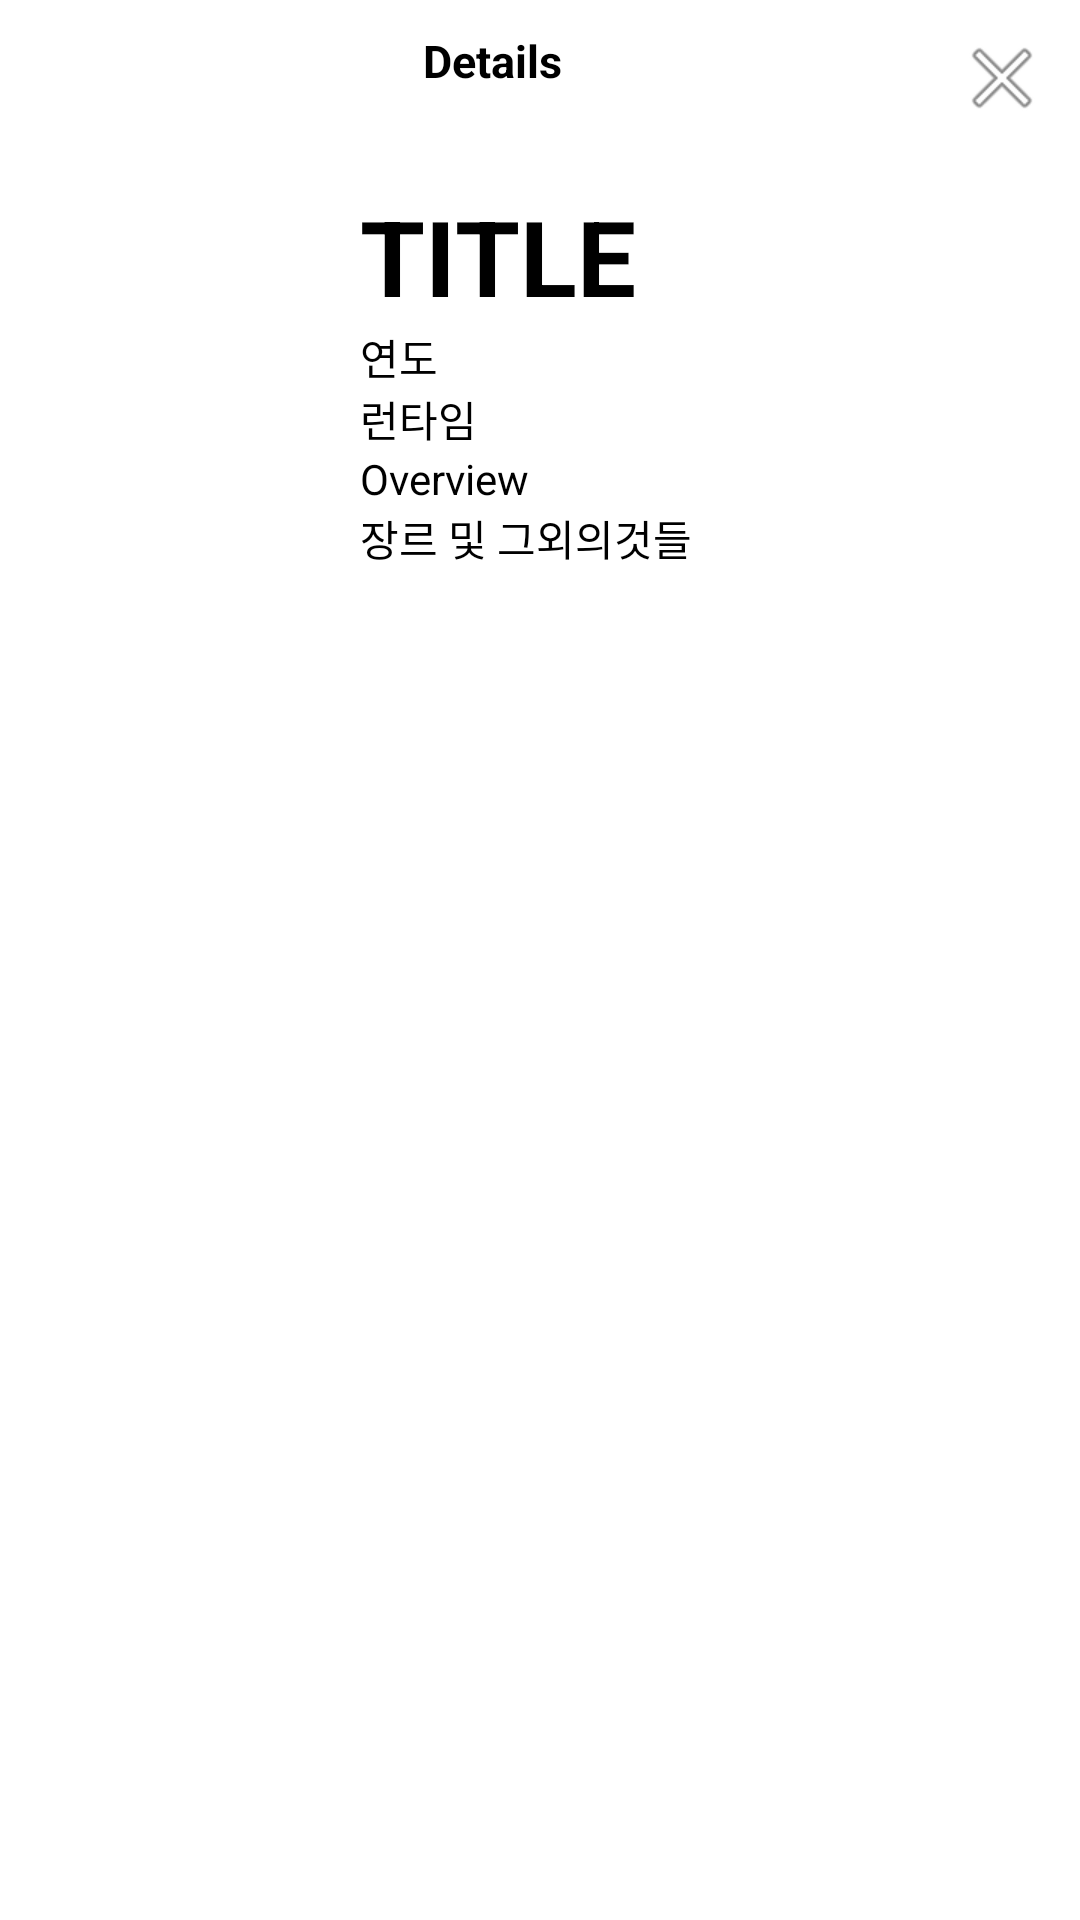

Where to tap for icons on this 1080w x 1920h app screen, as point (x, y):
close clear cancel: point (1002, 78)
